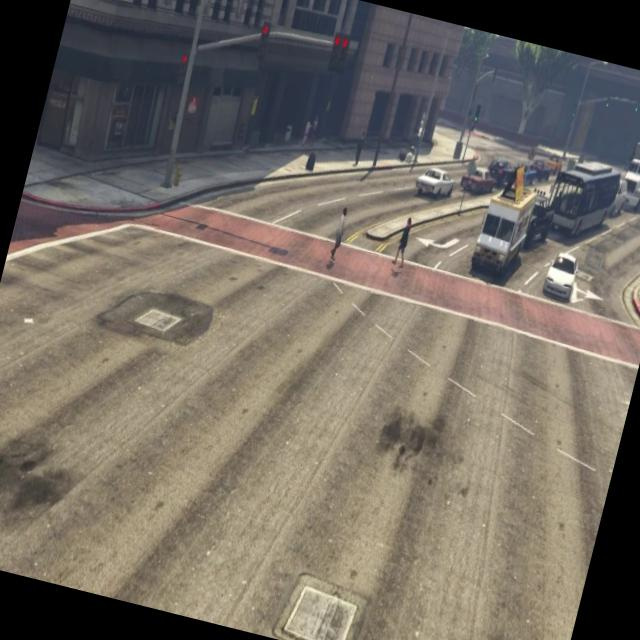Red-Signal: (316, 23, 358, 86), (250, 13, 276, 67), (168, 44, 194, 95)
